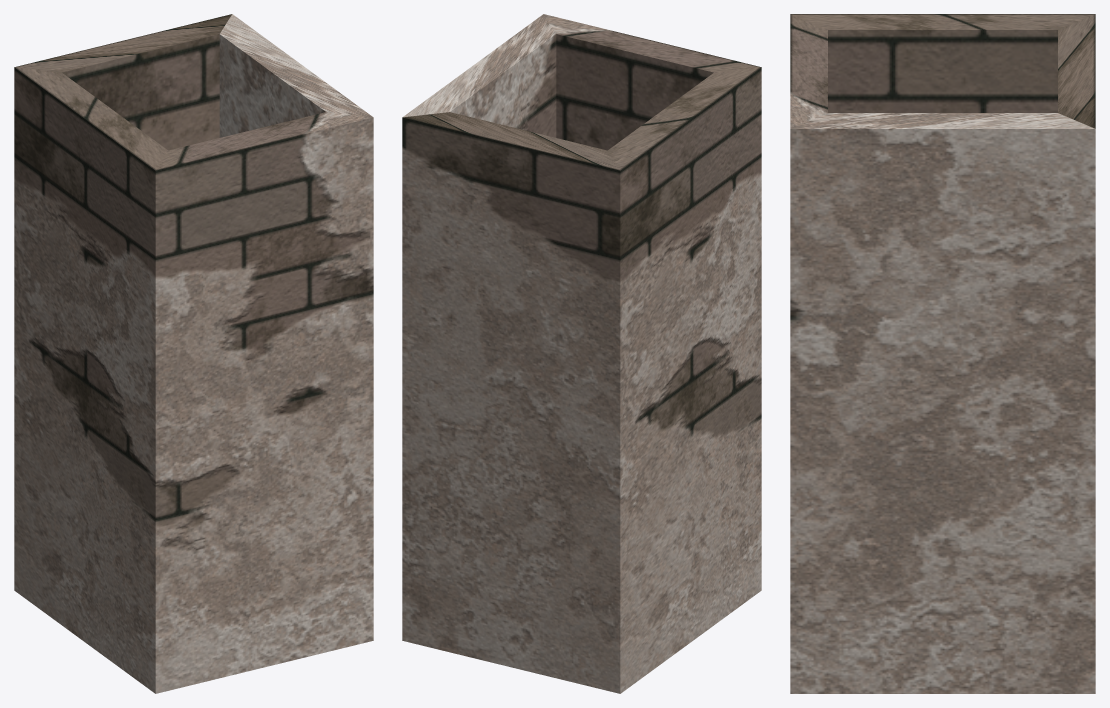
Rendered from chimney.FBX.
3 views of the same model, side by side, from view 1: azimuth 30°, elevation 25°; view 2: azimuth 150°, elevation 25°; view 3: azimuth 270°, elevation 25° (orthographic). The views are drawn at different scales.
Visible parts, largest first — view 1: chimney; view 2: chimney; view 3: chimney.
Boxes of the visible parts, x1=… form: chimney: x1=14, y1=14, x2=373, y2=693; chimney: x1=402, y1=14, x2=761, y2=693; chimney: x1=790, y1=14, x2=1095, y2=693.
Bounding box in the file's own units: 64.9 × 149 × 72.84.
